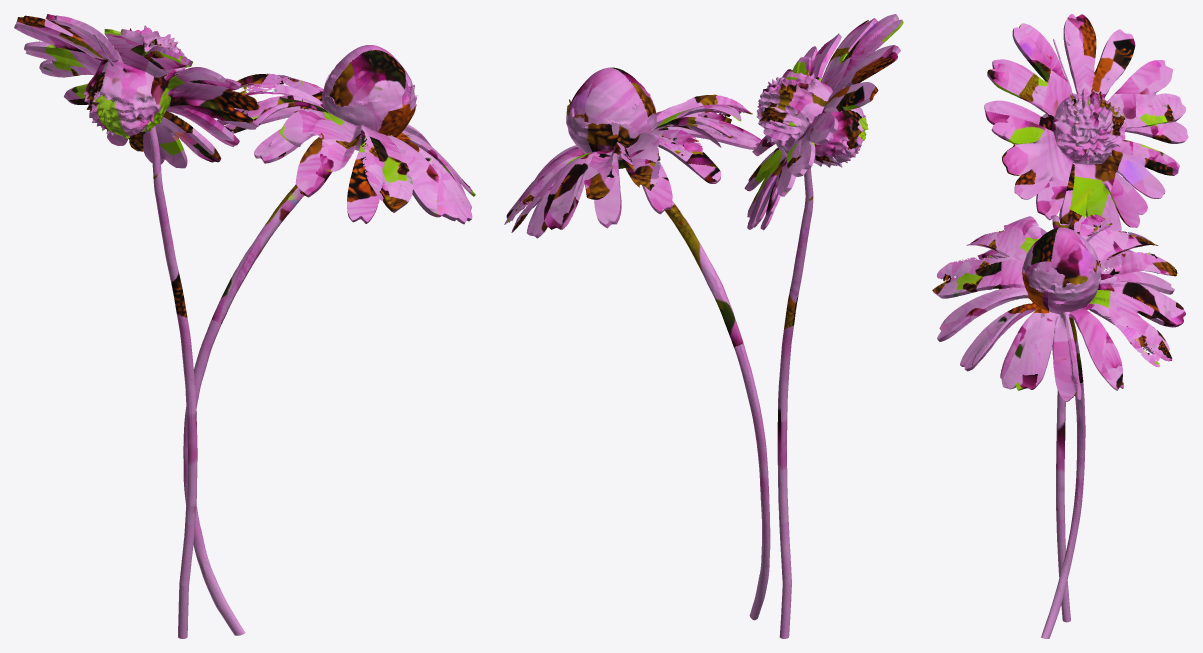
File: echinacea.glb
3 renders of one model, left to right at view 1: azimuth 30°, elevation 25°; view 2: azimuth 150°, elevation 25°; view 3: azimuth 270°, elevation 25°, orthographic. The views are drawn at different scales.
Parts seen in each view (by area): view 1: tripo_node_37f0de75-aa4f-40a2-a15a-c3c7a45b3571; view 2: tripo_node_37f0de75-aa4f-40a2-a15a-c3c7a45b3571; view 3: tripo_node_37f0de75-aa4f-40a2-a15a-c3c7a45b3571.
Part boxes in pixels (x1,y1,x2,y2): tripo_node_37f0de75-aa4f-40a2-a15a-c3c7a45b3571: [14, 14, 475, 638]; tripo_node_37f0de75-aa4f-40a2-a15a-c3c7a45b3571: [504, 14, 903, 638]; tripo_node_37f0de75-aa4f-40a2-a15a-c3c7a45b3571: [932, 14, 1188, 638].
Bounding box in the file's own units: 0.6386 × 1 × 0.4168.
1 material, 1 textured.
